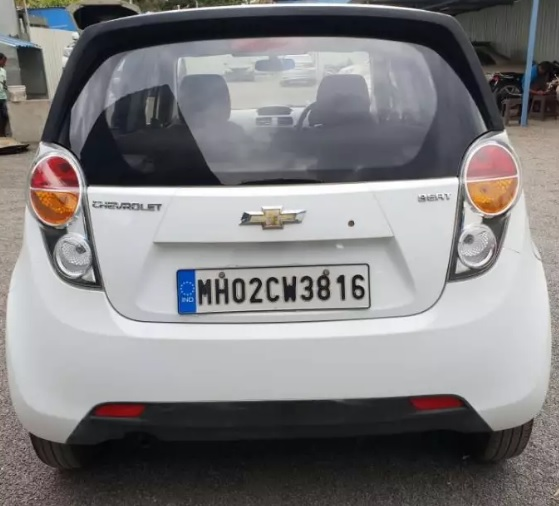licenseplate: (176, 265, 375, 313)
